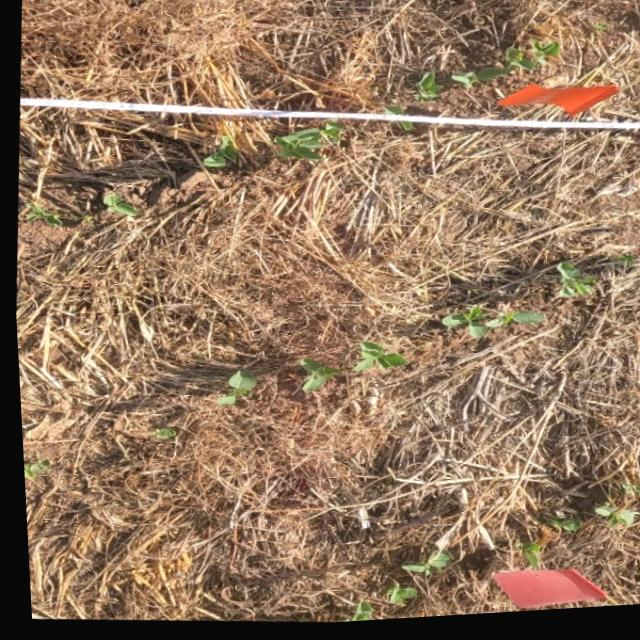soy_plant: (450, 46, 558, 93), (438, 311, 541, 342), (273, 123, 341, 162), (349, 345, 402, 376), (295, 361, 338, 393), (553, 268, 592, 303), (213, 372, 251, 407), (395, 555, 444, 580), (588, 508, 633, 533), (201, 137, 234, 168), (24, 202, 60, 226), (412, 76, 441, 105), (101, 194, 135, 217), (380, 586, 410, 608), (509, 546, 534, 572), (335, 605, 367, 625), (539, 521, 576, 537), (19, 457, 44, 478), (617, 491, 640, 505), (145, 429, 171, 439)
